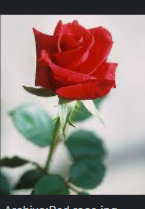RedRose: (31, 14, 121, 103)
